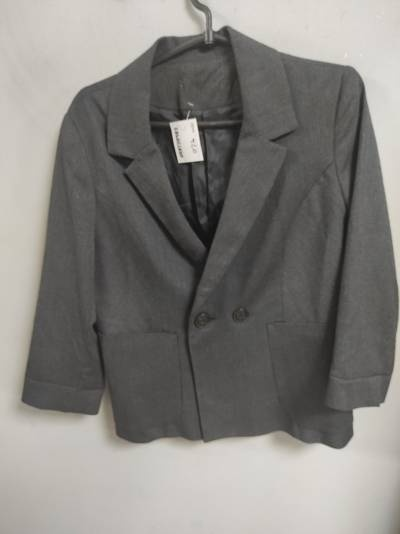Blazer: (10, 45, 391, 464)
